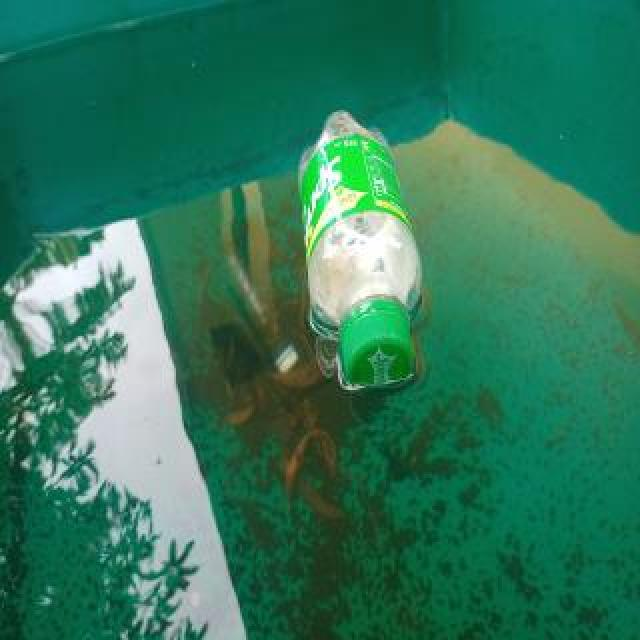Plastic Bottle: (296, 105, 426, 391)
